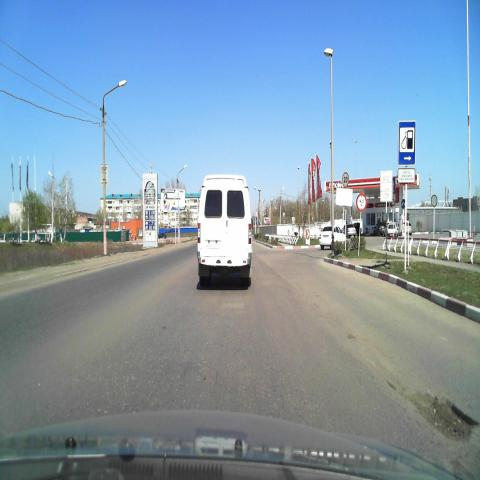7_3: (398, 122, 416, 166)
